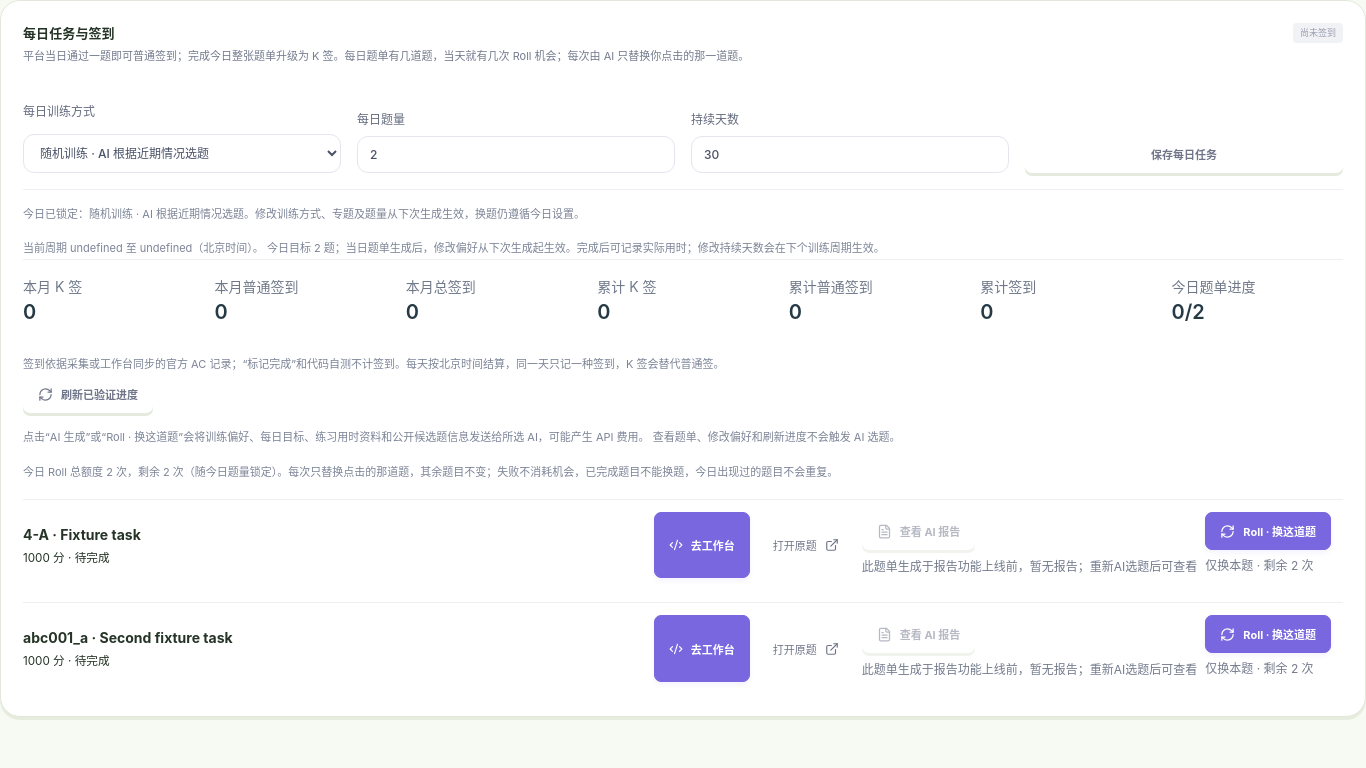
Test: retains an already loaded daily plan when refreshing progress fails
The width and height of the screenshot is (1366, 768).
Click the button "刷新已验证进度" at [88, 394], box [23,375,153,413]
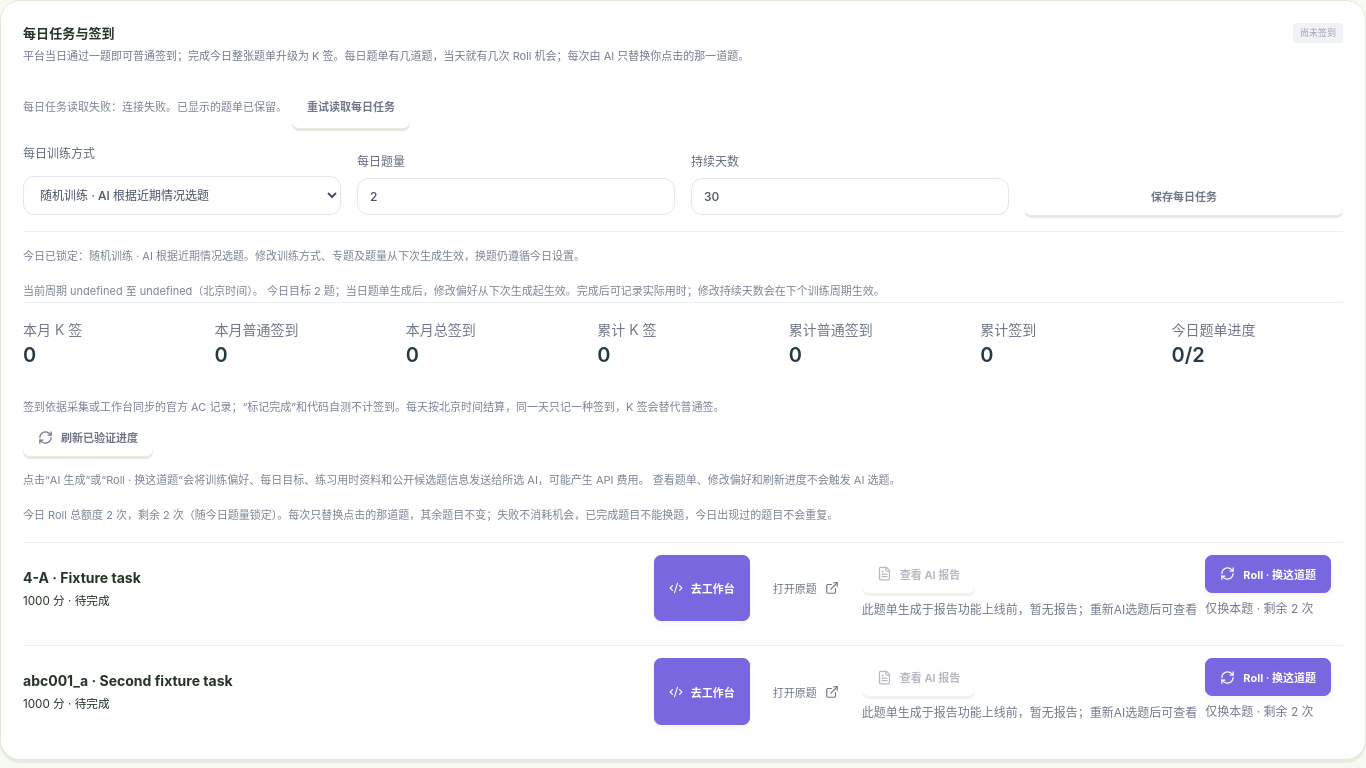
expect the text "Fixture task" is shown: met, box [60,569,141,586]
expect the text "已显示的题单已保留" is shown: met, box [177,100,287,114]
